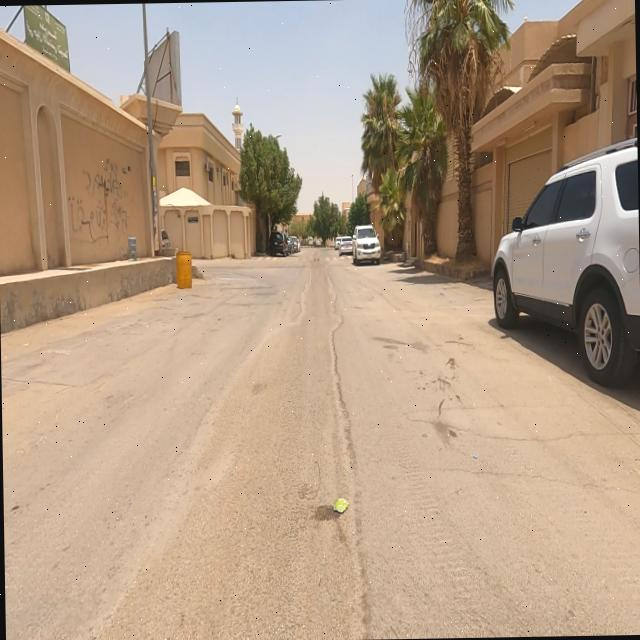Graffiti: (67, 158, 127, 244)
